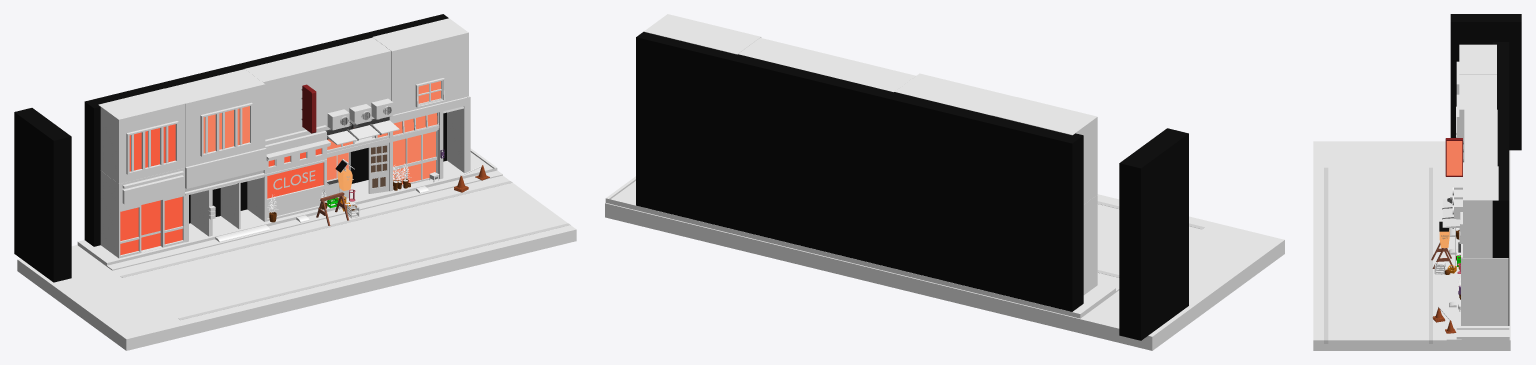
The model's file is japanStreet.glb.
3 renders of one model, left to right at view 1: azimuth 30°, elevation 25°; view 2: azimuth 150°, elevation 25°; view 3: azimuth 270°, elevation 25°, orthographic. The views are drawn at different scales.
Parts seen in each view (by area): view 1: Cube, Cube.140, Cube.124, Cube.047, Cube.037, Cube.068, Cube.065, Cube.046, Cube.061, Cube.021, Cube.028, Cube.066 (+18 smaller); view 2: Cube.124, Cube, Cube.140, Cube.021, Cube.068, Cube.065, Cube.047, Cube.046, Cube.061, Cube.037; view 3: Cube, Cube.140, Cube.001, Cube.124, Cube.047, Cube.065, Cube.021, Cube.068, Cube.072, Cube.046, Cube.061, Cube.142 (+5 smaller).
Part boxes in pixels (x1,y1,x2,y2): Cube: [17, 175, 576, 350]; Cube.140: [14, 108, 71, 282]; Cube.124: [84, 14, 448, 246]; Cube.047: [372, 18, 468, 114]; Cube.037: [100, 168, 184, 258]; Cube.068: [98, 88, 184, 183]; Cube.065: [165, 69, 265, 167]; Cube.046: [305, 37, 391, 130]; Cube.061: [245, 54, 323, 145]; Cube.021: [77, 148, 497, 266]; Cube.028: [247, 159, 326, 221]; Cube.066: [200, 102, 252, 156]; Cube.124: [636, 32, 1083, 311]; Cube: [605, 194, 1284, 350]; Cube.140: [1119, 128, 1188, 340]; Cube.021: [605, 176, 1115, 318]; Cube.068: [992, 97, 1097, 204]; Cube.065: [895, 73, 1016, 115]; Cube.047: [643, 14, 761, 54]; Cube.046: [738, 38, 841, 73]; Cube.061: [820, 57, 915, 92]; Cube.037: [1083, 195, 1097, 294]; Cube: [1313, 141, 1510, 350]; Cube.140: [1450, 14, 1521, 150]; Cube.001: [1461, 257, 1508, 325]; Cube.124: [1492, 42, 1509, 325]; Cube.047: [1463, 166, 1498, 257]; Cube.065: [1459, 74, 1496, 161]; Cube.021: [1456, 165, 1509, 340]; Cube.068: [1459, 44, 1496, 74]; Cube.072: [1446, 177, 1461, 343]; Cube.046: [1464, 136, 1497, 166]; Cube.061: [1464, 109, 1497, 136]; Cube.142: [1324, 167, 1328, 343].
Size of the model in its own units: 21.01 by 6.88 by 9.31.
